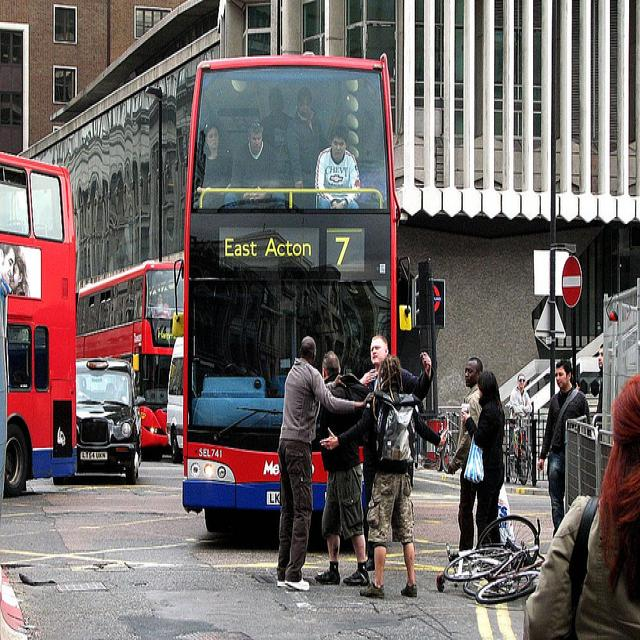Vehicle: (172, 60, 404, 522), (0, 152, 78, 495), (74, 260, 182, 460), (76, 359, 142, 483), (166, 335, 184, 464)
